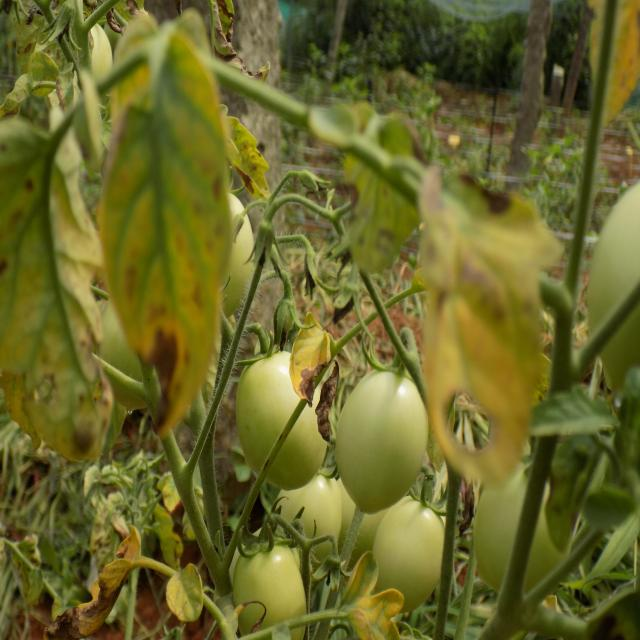tomato_early blight: (99, 30, 230, 437), (414, 155, 567, 488), (0, 108, 117, 466), (288, 307, 353, 438), (72, 527, 140, 640), (343, 552, 407, 640), (215, 108, 271, 205), (160, 560, 205, 622)
